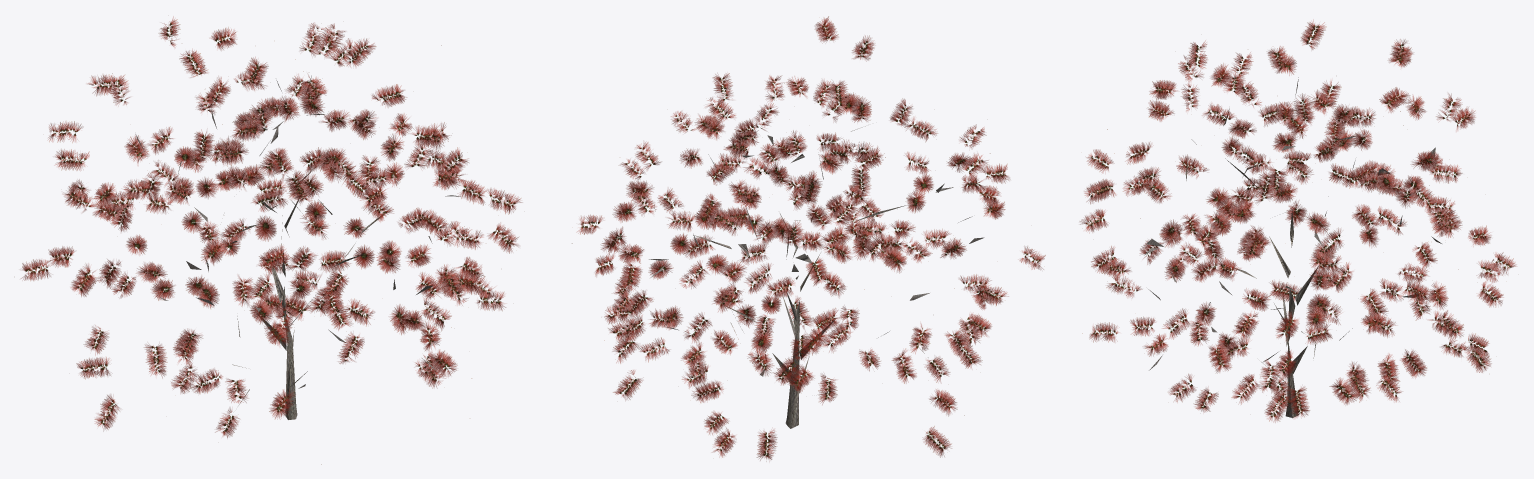
File: bottlebrush_b.glb
3 views of the same model, side by side, from view 1: azimuth 30°, elevation 25°; view 2: azimuth 150°, elevation 25°; view 3: azimuth 270°, elevation 25° (orthographic). The views are drawn at different scales.
Parts seen in each view (by area): view 1: Callistemon_rigidus_HD_Callist rigid leaf a_0; view 2: Callistemon_rigidus_HD_Callist rigid leaf a_0; view 3: Callistemon_rigidus_HD_Callist rigid leaf a_0.
Boxes of the visible parts, bbox=[...] form: Callistemon_rigidus_HD_Callist rigid leaf a_0: bbox=[21, 16, 522, 464]; Callistemon_rigidus_HD_Callist rigid leaf a_0: bbox=[572, 16, 1045, 461]; Callistemon_rigidus_HD_Callist rigid leaf a_0: bbox=[1079, 20, 1516, 422].
Bounding box in the file's own units: 1.65 × 1.33 × 1.47.
4 materials, 4 textured.
